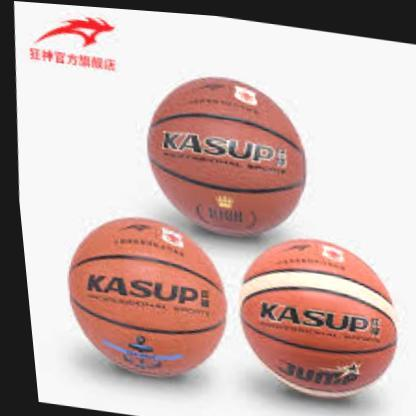basketball: (222, 225, 403, 405), (133, 64, 313, 242), (52, 209, 230, 384)
